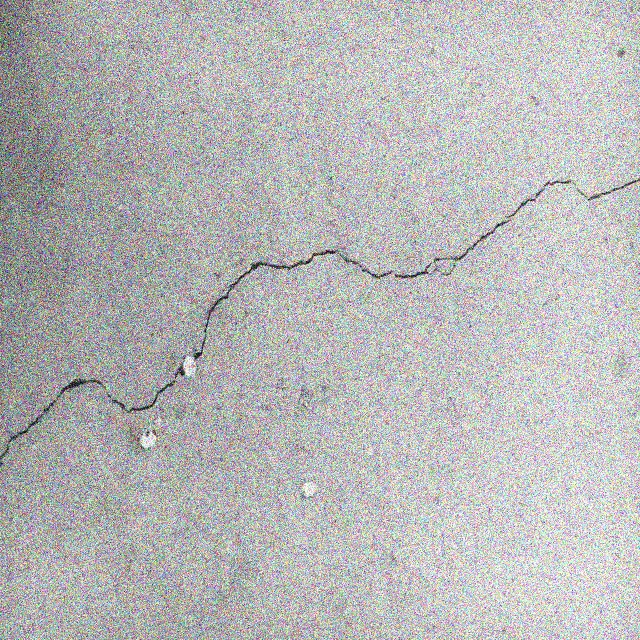SurfaceCrack: (1, 64, 640, 480)
